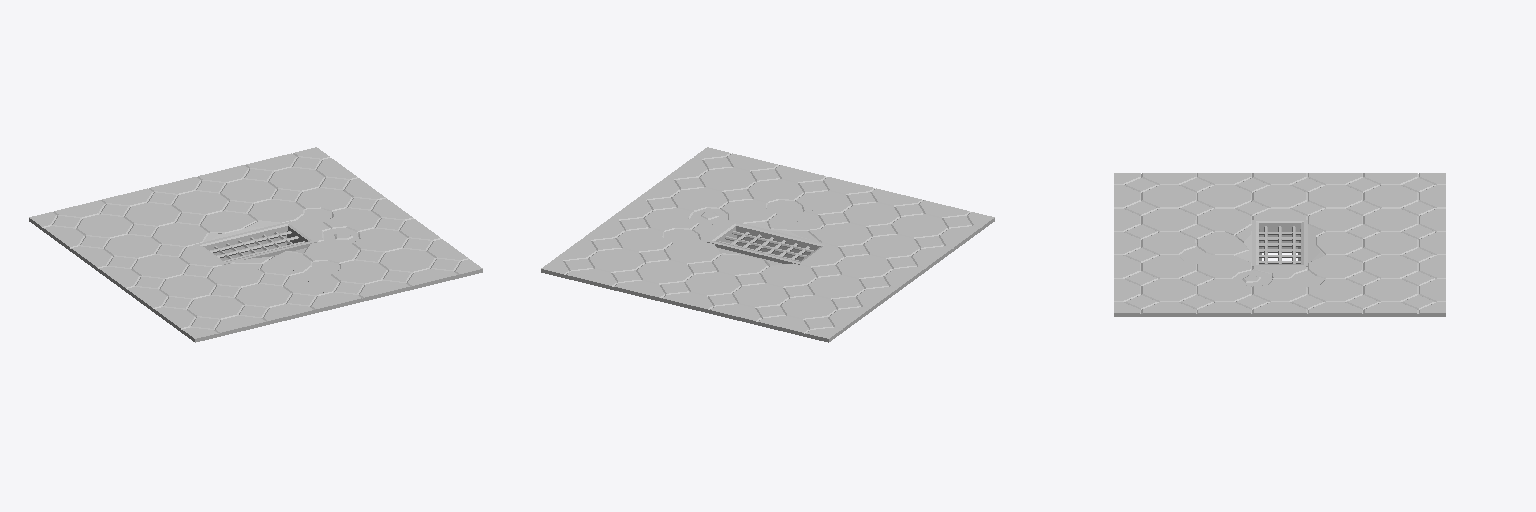
File: FloorGrate.obj
3 renders of one model, left to right at view 1: azimuth 30°, elevation 25°; view 2: azimuth 150°, elevation 25°; view 3: azimuth 270°, elevation 25°, orthographic.
Visible parts, largest first — view 1: floor_tile_large.003, floor_tile_large.007, floor_tile_large.002, floor_tile_large.001, floor_tile_large.005, floor_tile_large, floor_tile_grate_open, floor_tile_large_rocks.001, floor_tile_small.002, floor_tile_small.003, floor_tile_small.001, floor_tile_small_broken_B.001 (+4 smaller); view 2: floor_tile_large.001, floor_tile_large.005, floor_tile_large, floor_tile_large.002, floor_tile_large.003, floor_tile_large.007, floor_tile_grate_open, floor_tile_large_rocks.001, floor_tile_small, floor_tile_small_broken_B.001, floor_tile_small.002, floor_tile_small.003 (+4 smaller); view 3: floor_tile_large.005, floor_tile_large.007, floor_tile_large.001, floor_tile_large.003, floor_tile_large.002, floor_tile_large, floor_tile_grate_open, floor_tile_large_rocks.001, floor_tile_small, floor_tile_small.001, floor_tile_small_broken_B.001, floor_tile_small_broken_A (+5 smaller).
Part boxes in pixels (left/top/right/bottom): floor_tile_large.003: left=140, top=275, right=290, bottom=342; floor_tile_large.007: left=332, top=228, right=482, bottom=295; floor_tile_large.002: left=84, top=235, right=234, bottom=301; floor_tile_large.001: left=29, top=194, right=179, bottom=260; floor_tile_large.005: left=221, top=147, right=371, bottom=210; floor_tile_large: left=126, top=171, right=274, bottom=233; floor_tile_grate_open: left=195, top=221, right=317, bottom=264; floor_tile_large_rocks.001: left=180, top=211, right=331, bottom=274; floor_tile_small.002: left=312, top=272, right=386, bottom=307; floor_tile_small.003: left=264, top=284, right=338, bottom=318; floor_tile_small.001: left=353, top=208, right=426, bottom=239; floor_tile_small_broken_B.001: left=284, top=252, right=358, bottom=283; floor_tile_large.001: left=733, top=275, right=883, bottom=342; floor_tile_large.005: left=541, top=228, right=691, bottom=295; floor_tile_large: left=637, top=252, right=787, bottom=318; floor_tile_large.002: left=789, top=235, right=939, bottom=301; floor_tile_large.003: left=844, top=194, right=994, bottom=260; floor_tile_large.007: left=652, top=147, right=802, bottom=210; floor_tile_grate_open: left=706, top=221, right=828, bottom=264; floor_tile_large_rocks.001: left=692, top=211, right=843, bottom=274; floor_tile_small: left=597, top=208, right=670, bottom=239; floor_tile_small_broken_B.001: left=748, top=191, right=822, bottom=222; floor_tile_small.002: left=776, top=171, right=850, bottom=201; floor_tile_small.003: left=823, top=182, right=897, bottom=213; floor_tile_large.005: left=1335, top=266, right=1445, bottom=316; floor_tile_large.007: left=1114, top=266, right=1224, bottom=316; floor_tile_large.001: left=1335, top=173, right=1445, bottom=219; floor_tile_large.003: left=1114, top=173, right=1224, bottom=219; floor_tile_large.002: left=1225, top=173, right=1334, bottom=219; floor_tile_large: left=1335, top=220, right=1445, bottom=266; floor_tile_grate_open: left=1252, top=220, right=1307, bottom=266; floor_tile_large_rocks.001: left=1225, top=220, right=1334, bottom=266; floor_tile_small: left=1280, top=290, right=1334, bottom=316; floor_tile_small.001: left=1225, top=290, right=1279, bottom=316; floor_tile_small_broken_B.001: left=1169, top=243, right=1224, bottom=266; floor_tile_small_broken_A: left=1225, top=266, right=1279, bottom=290.
Bounding box in the file's own units: 11.4 × 0.9785 × 11.4.